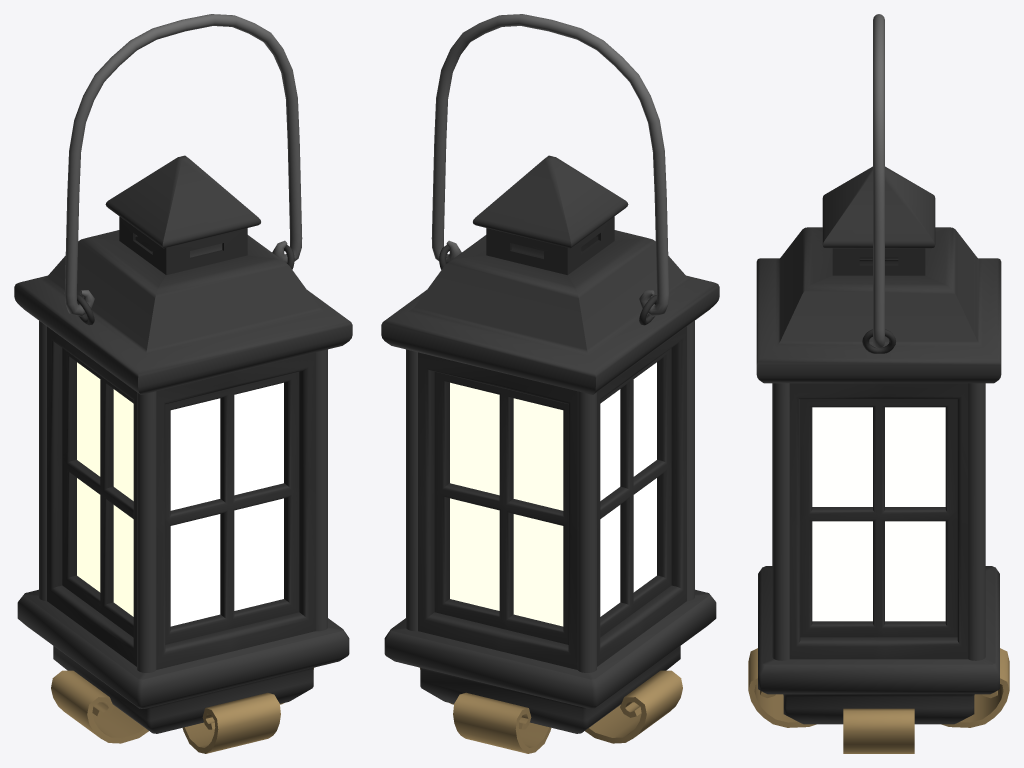
The model's file is fisherman_lantern.glb.
3 views of the same model, side by side, from view 1: azimuth 30°, elevation 25°; view 2: azimuth 150°, elevation 25°; view 3: azimuth 270°, elevation 25° (orthographic).
Parts seen in each view (by area): view 1: lantern_flat_lit; view 2: lantern_flat_lit; view 3: lantern_flat_lit.
Part boxes in pixels (<box>): lantern_flat_lit: <box>14,14,352,753</box>; lantern_flat_lit: <box>381,14,719,753</box>; lantern_flat_lit: <box>748,14,1009,753</box>.
Size of the model in its own units: 0.3426 by 0.9592 by 0.3328.
